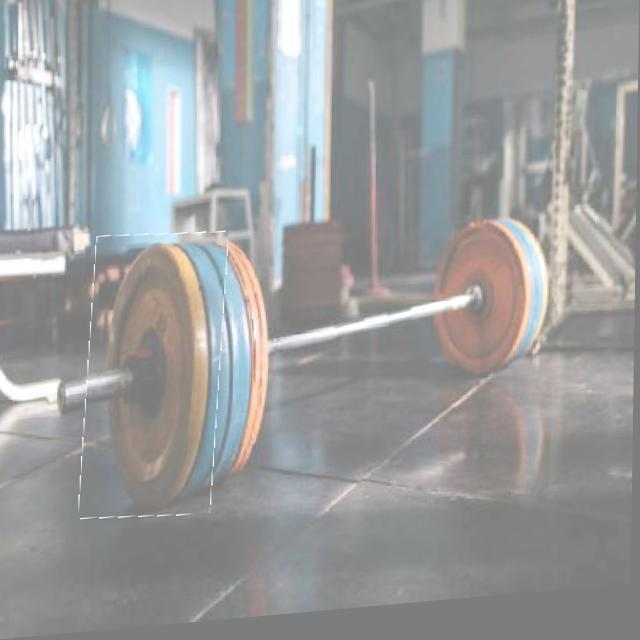barbell: (84, 231, 227, 525)
